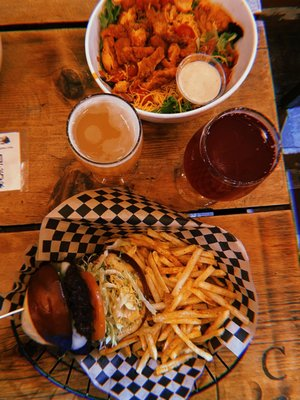sushi: (83, 0, 257, 124), (181, 107, 282, 204), (67, 94, 143, 178), (175, 53, 226, 107)
